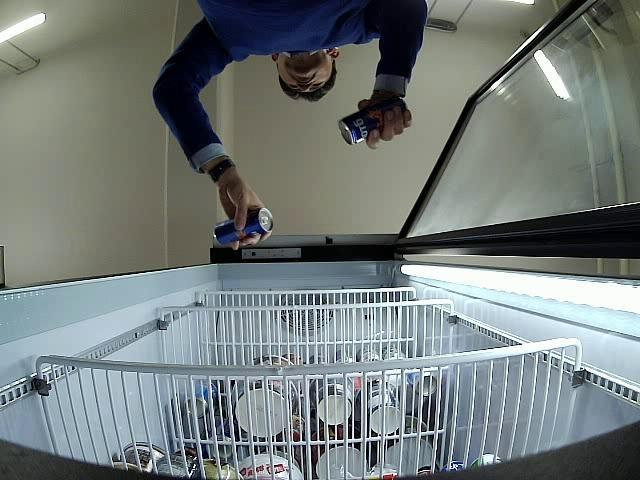16_hot6: (338, 98, 408, 146), (214, 207, 274, 245)
